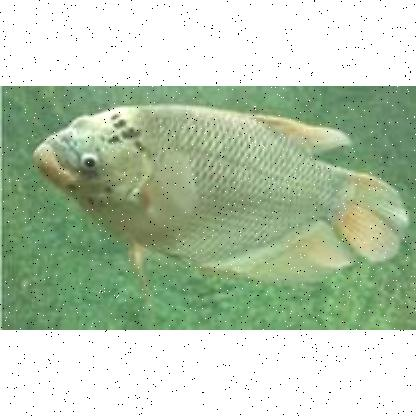gurame: (34, 101, 396, 285)
